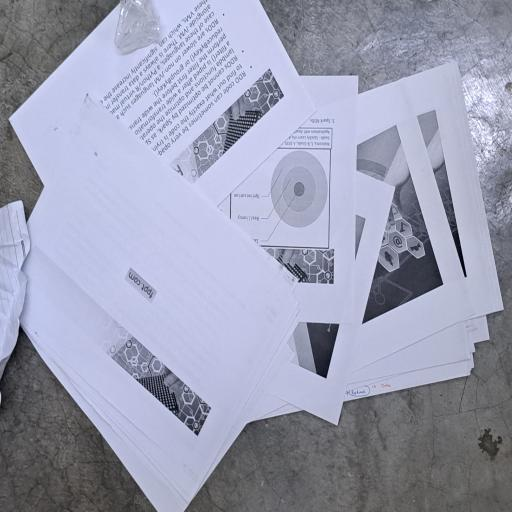paper: (0, 0, 384, 512)
